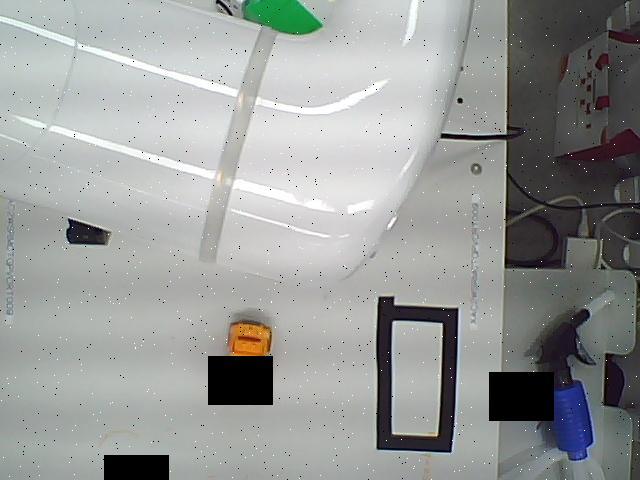Diesel car: (217, 313, 270, 405)
Electric car: (237, 0, 320, 34)
